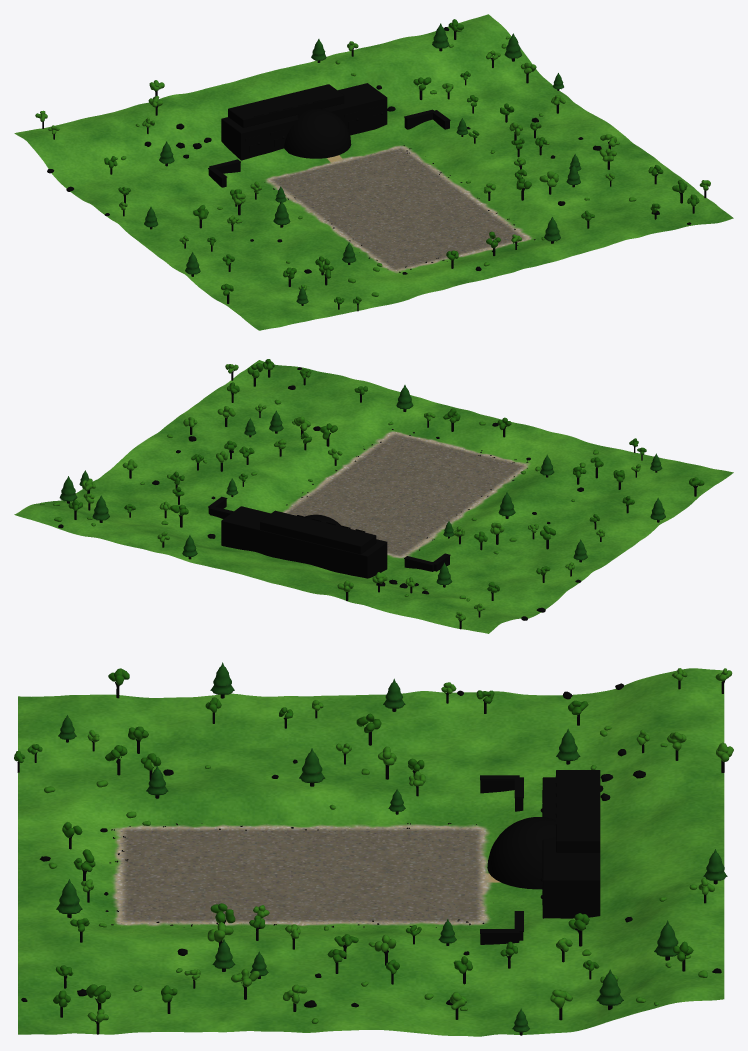
File: surroundings_13x23.glb
3 views of the same model, one above another, from view 1: azimuth 30°, elevation 25°; view 2: azimuth 150°, elevation 25°; view 3: azimuth 270°, elevation 25° (orthographic). The views are drawn at different scales.
Parts seen in each view (by area): view 1: ground, props; view 2: ground, props; view 3: ground, props.
Boxes of the visible parts, x1,y1,x2,y2 form: ground: (14, 14, 733, 330); props: (35, 19, 710, 311); ground: (14, 360, 733, 633); props: (40, 359, 704, 629); ground: (18, 668, 724, 1036); props: (14, 662, 733, 1035).
Bounding box in the file's own units: 57.93 × 6.02 × 51.98.
Materials: 3 (3 with a texture image).
